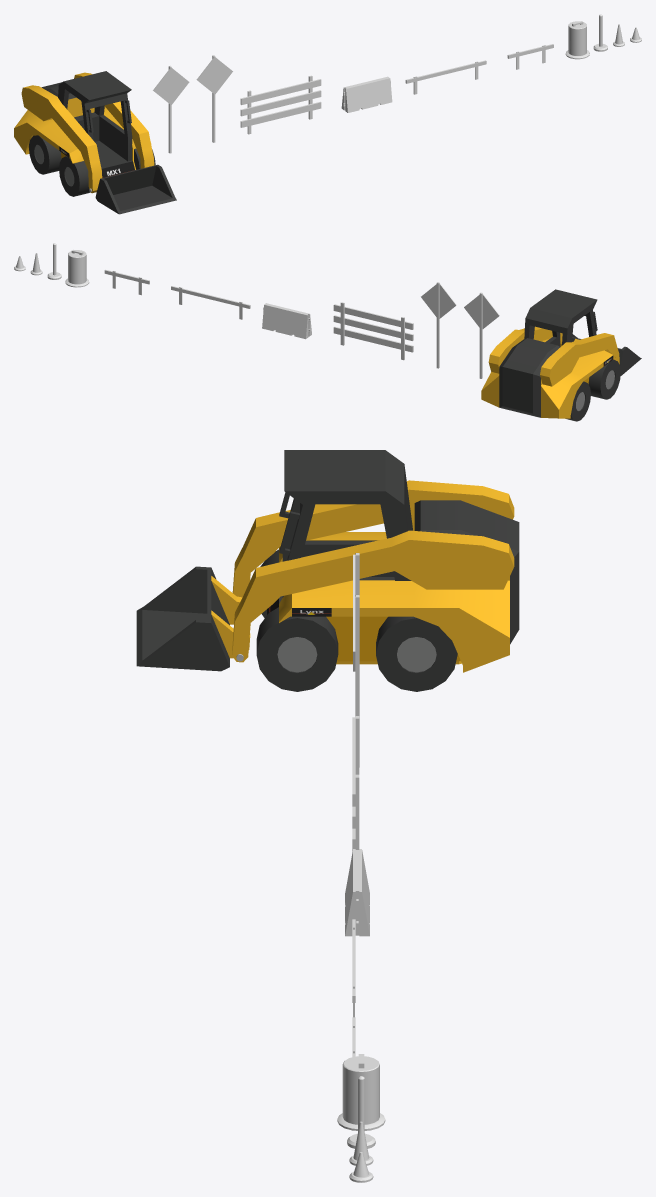
File: LowPolyConstructionPack.fbx
The picture shows the model from 3 angles, top to bottom: view 1: azimuth 30°, elevation 25°; view 2: azimuth 150°, elevation 25°; view 3: azimuth 270°, elevation 25°; orthographic projection. The views are drawn at different scales.
Parts seen in each view (by area): view 1: Cube, Cube.002, Cube.003, Cube.009, Cube.001, Cube.006, Cube.007, Cube.008, Cylinder.003, Cube.004, Cube.005; view 2: Cube, Cube.002, Cube.009, Cube.001, Cube.006, Cube.008, Cube.007, Cylinder.003, Cube.004, Cube.003, Cube.005; view 3: Cube, Cube.002, Cube.001, Cube.003, Cylinder.003, Cube.006, Cube.009.
Part boxes in pixels (x1,y1,x2,y2): Cube: (14, 71, 151, 177); Cube.002: (21, 72, 154, 193); Cube.003: (95, 164, 176, 214); Cube.009: (240, 75, 321, 134); Cube.001: (29, 135, 155, 196); Cube.006: (341, 76, 392, 112); Cube.007: (153, 65, 189, 153); Cube.008: (196, 55, 232, 142); Cylinder.003: (565, 21, 589, 59); Cube.004: (405, 60, 486, 94); Cube.005: (507, 44, 553, 69); Cube: (481, 289, 616, 418); Cube.002: (488, 326, 619, 386); Cube.009: (333, 302, 413, 360); Cube.001: (565, 359, 620, 421); Cube.006: (262, 303, 311, 339); Cube.008: (421, 282, 456, 368); Cube.007: (464, 292, 499, 378); Cylinder.003: (65, 249, 89, 287); Cube.004: (171, 286, 250, 319); Cube.003: (572, 334, 641, 375); Cube.005: (104, 269, 149, 295); Cube: (267, 450, 519, 672); Cube.002: (232, 480, 514, 662); Cube.001: (256, 549, 457, 691); Cube.003: (136, 566, 250, 671); Cylinder.003: (337, 1054, 385, 1130); Cube.006: (345, 849, 369, 936); Cube.009: (352, 716, 359, 850).
Bounding box in the file's own units: 2037 × 309 × 580.
